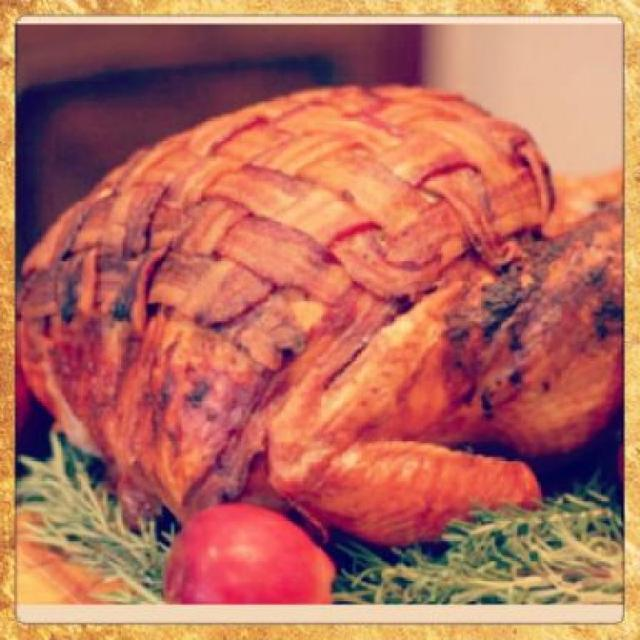Apple pie: (150, 505, 338, 613)
